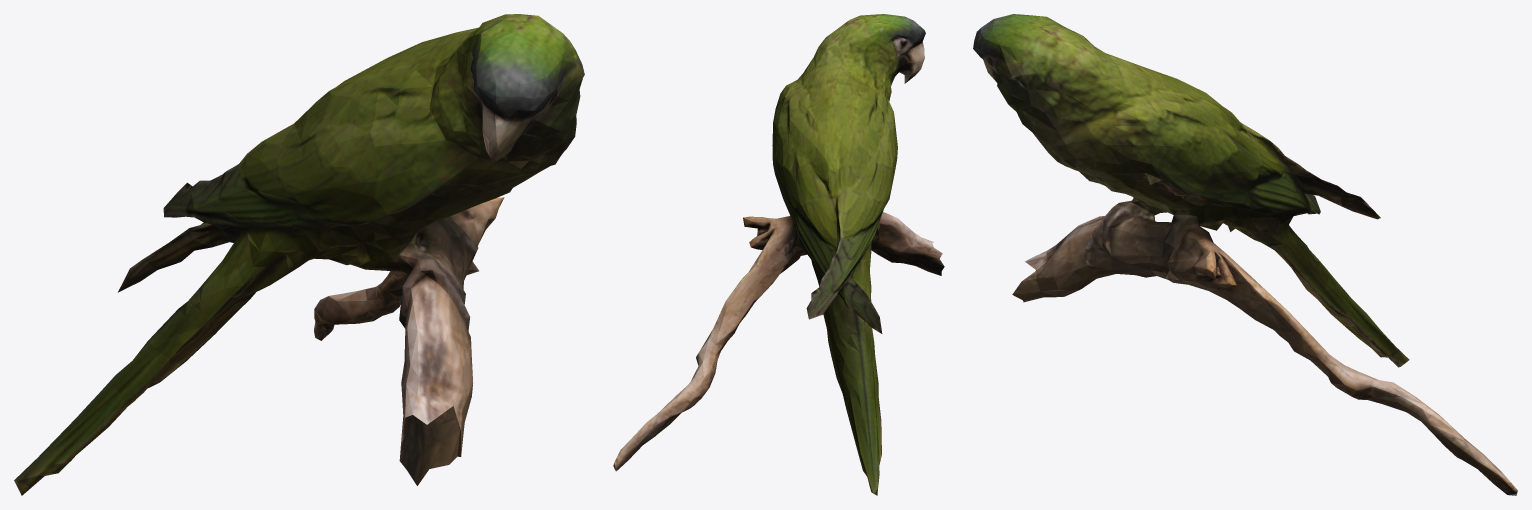
The model's file is LoraCopeteNegro.gltf.
The picture shows the model from 3 angles, left to right: view 1: azimuth 30°, elevation 25°; view 2: azimuth 150°, elevation 25°; view 3: azimuth 270°, elevation 25°; orthographic projection. The views are drawn at different scales.
Visible parts, largest first — view 1: LoraCopeteNegro; view 2: LoraCopeteNegro; view 3: LoraCopeteNegro.
Boxes of the visible parts, bbox=[...] form: LoraCopeteNegro: bbox=[14, 14, 584, 495]; LoraCopeteNegro: bbox=[613, 14, 944, 495]; LoraCopeteNegro: bbox=[973, 14, 1517, 495].
Size of the model in its own units: 2.5 by 3.68 by 4.16.
Materials: 1 (1 with a texture image).
